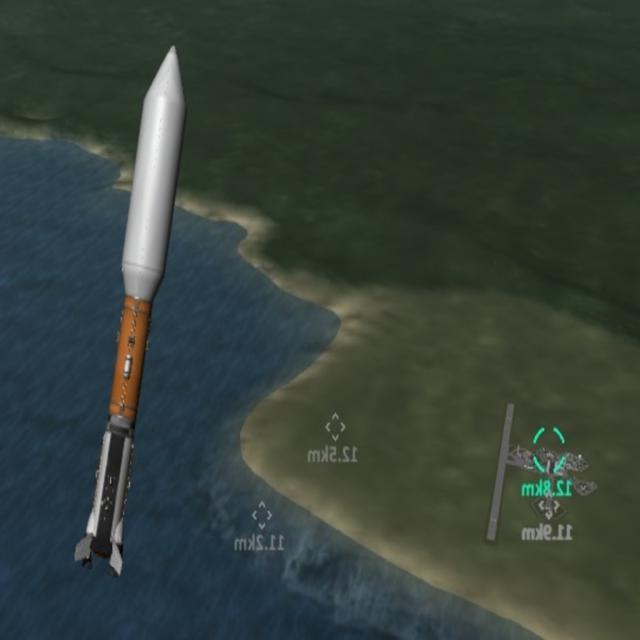Missile: (67, 46, 200, 582)
